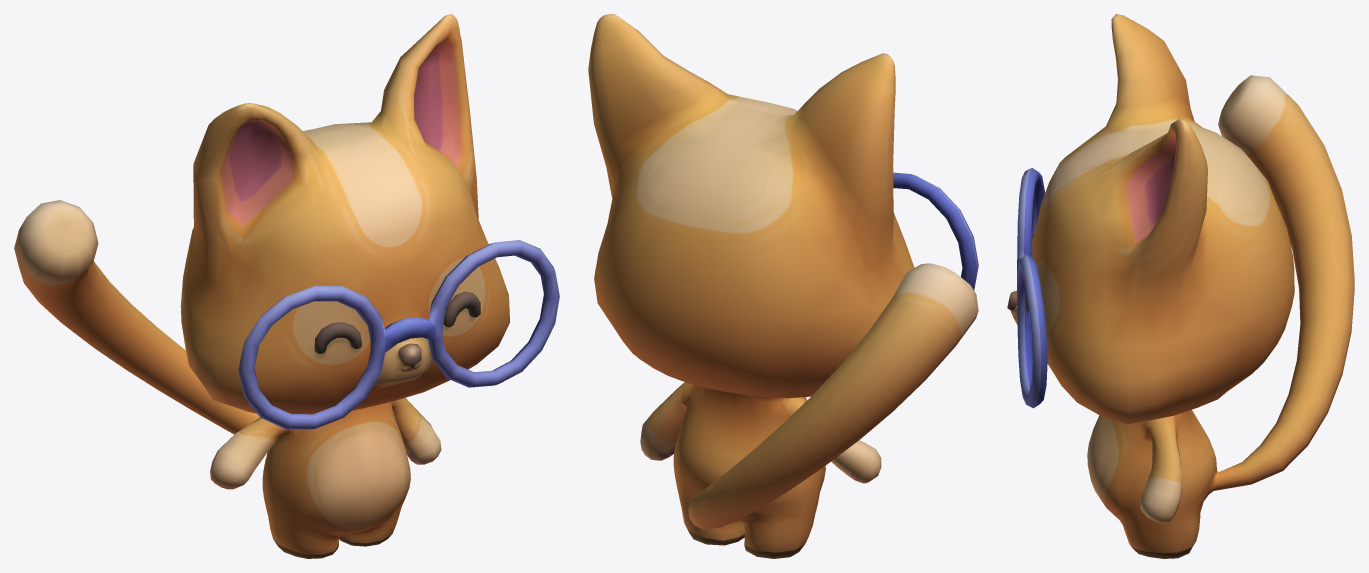
File: Entamar_Mesh_cat_pose.glb
3 renders of one model, left to right at view 1: azimuth 30°, elevation 25°; view 2: azimuth 150°, elevation 25°; view 3: azimuth 270°, elevation 25°, orthographic. The views are drawn at different scales.
Visible parts, largest first — view 1: Mesh_cat_pose; view 2: Mesh_cat_pose; view 3: Mesh_cat_pose.
Boxes of the visible parts, x1,y1,x2,y2 form: Mesh_cat_pose: [14, 14, 559, 558]; Mesh_cat_pose: [588, 14, 978, 558]; Mesh_cat_pose: [1007, 14, 1354, 558].
Bounding box in the file's own units: 0.761 × 0.8299 × 0.5513.
Materials: 1 (1 with a texture image).
